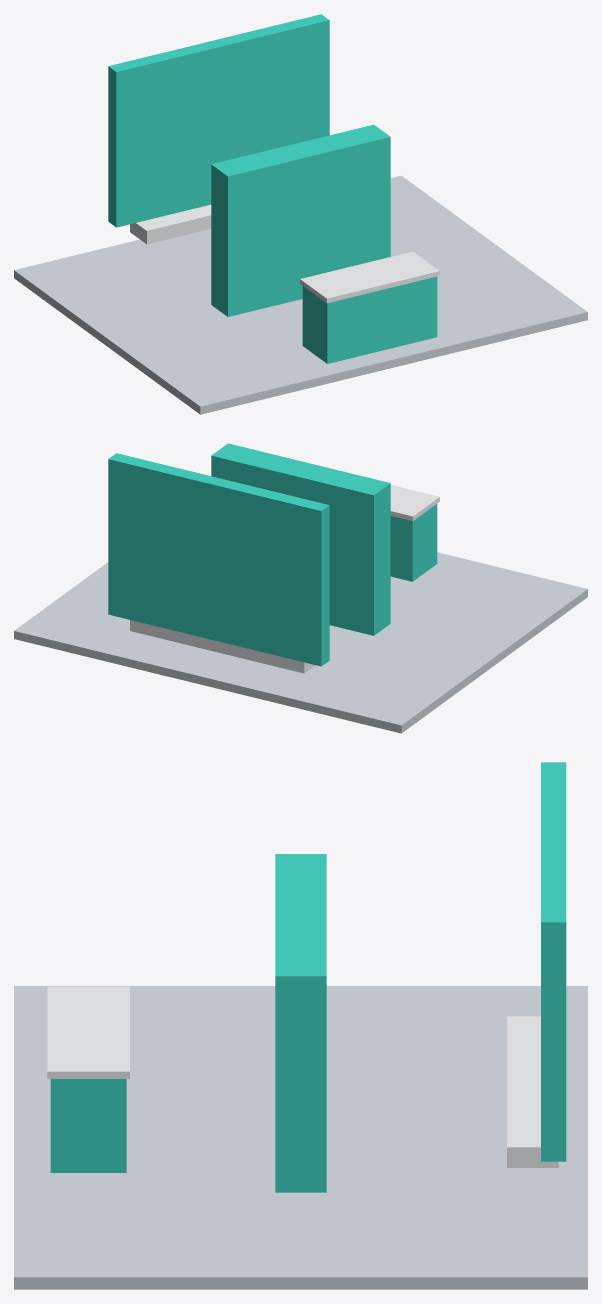
3 renders of one model, top to bottom at view 1: azimuth 30°, elevation 25°; view 2: azimuth 150°, elevation 25°; view 3: azimuth 270°, elevation 25°, orthographic. The views are drawn at different scales.
Visible parts, largest first — view 1: Exhibition Booth Concept; view 2: Exhibition Booth Concept; view 3: Exhibition Booth Concept.
Part boxes in pixels (bbox=[...]): Exhibition Booth Concept: bbox=[14, 14, 587, 414]; Exhibition Booth Concept: bbox=[14, 443, 587, 733]; Exhibition Booth Concept: bbox=[14, 762, 587, 1289].
Size of the model in its own units: 6 by 2.9 by 5.
